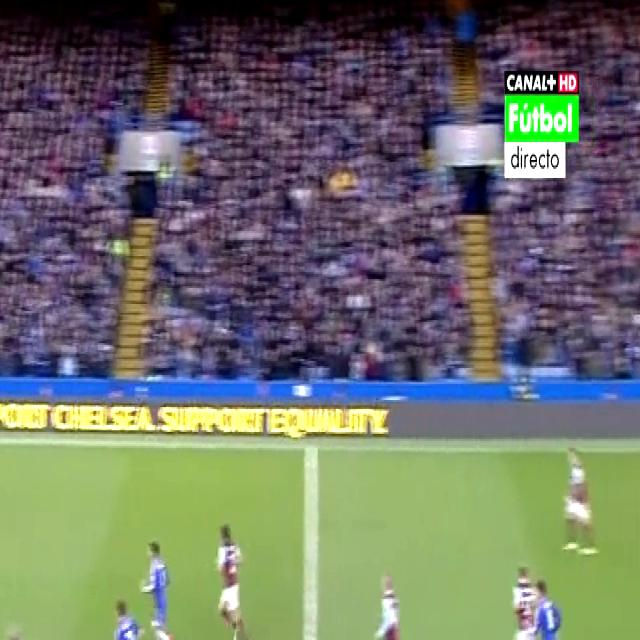referee: (0, 611, 36, 640)
soccer-player: (552, 432, 603, 570), (207, 508, 255, 640), (134, 524, 178, 640), (361, 563, 411, 640), (527, 570, 576, 640), (502, 560, 540, 640), (101, 588, 153, 640)
